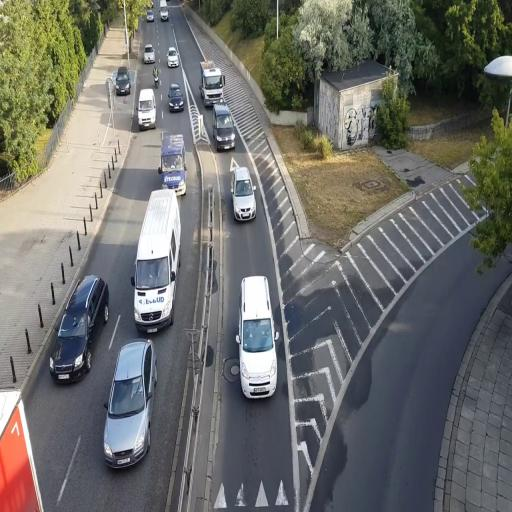vehicle: (102, 339, 157, 470), (132, 187, 181, 334), (49, 274, 109, 384), (238, 274, 278, 400), (160, 132, 187, 195), (231, 163, 256, 222), (212, 100, 236, 152), (212, 101, 236, 151), (200, 64, 224, 104), (134, 90, 156, 130), (167, 84, 185, 112), (114, 68, 132, 95), (168, 45, 180, 68), (144, 46, 154, 64)
